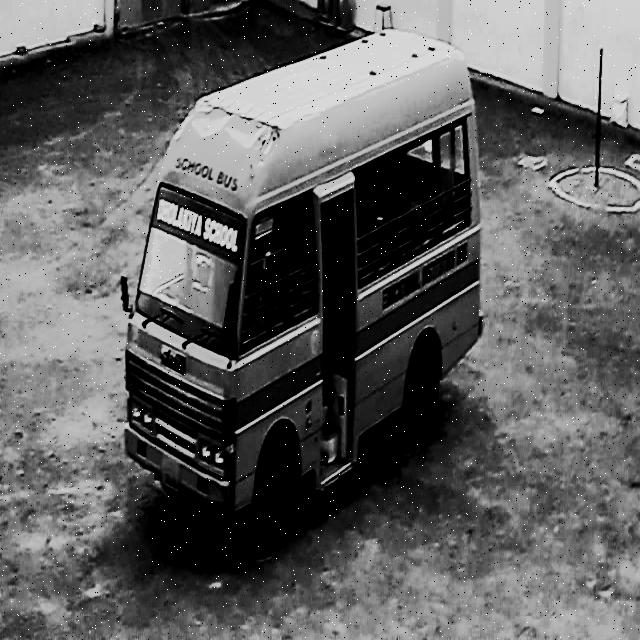Bus: (122, 25, 500, 567)
